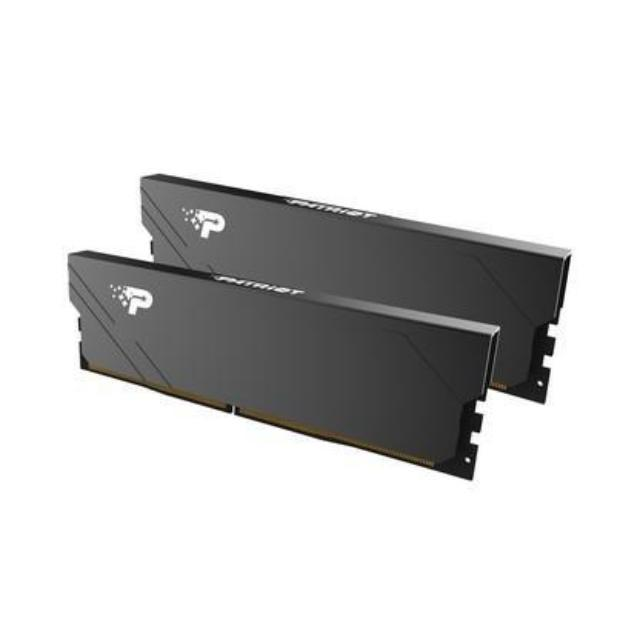RAM: (52, 173, 590, 487)
